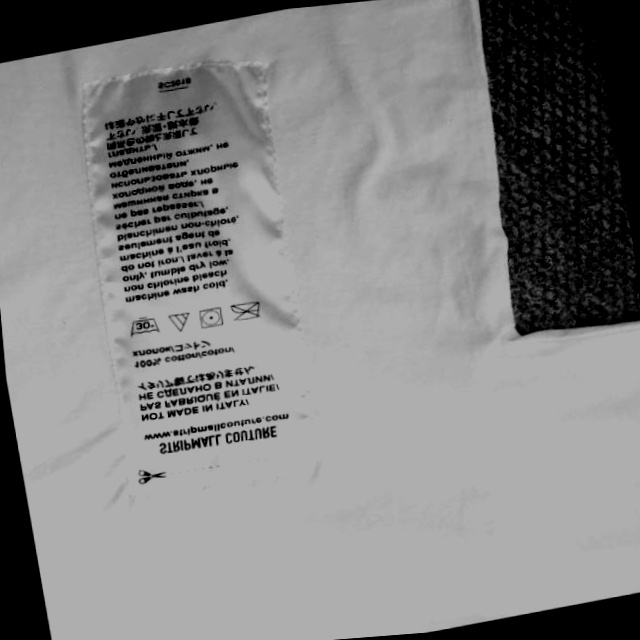30C: (125, 314, 162, 337)
DN_iron: (230, 298, 267, 326)
non_chlorine_bleach: (166, 310, 192, 333)
tumble_dry_low: (193, 305, 226, 329)
